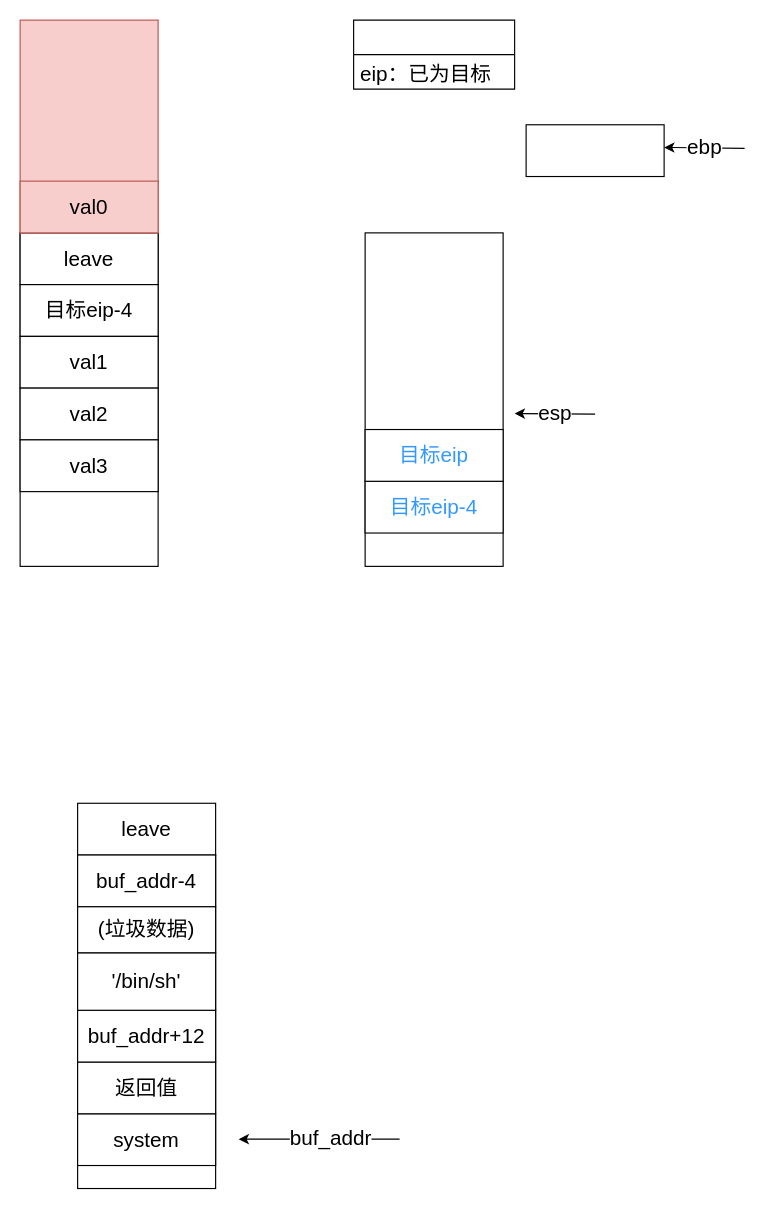
Some shapes in this 774 by 1209 pixel diagram are drawn without their labels. The shapes that lost their labels are listed below. From the top down, each one's box as (x1, y1, x2, y2) in pixels, then its label:
(352, 19, 515, 89): 寄存器值
(19, 19, 158, 233): 调用者
(525, 124, 664, 177): 目标eip-4 指向的地址
